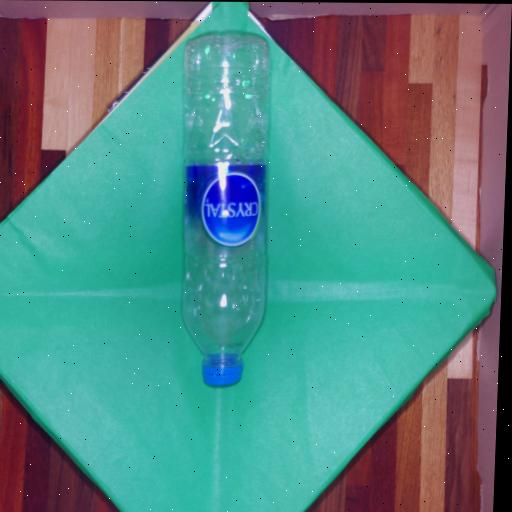bottle: (156, 20, 298, 401)
